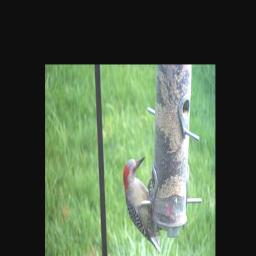Woodpecker: (124, 156, 162, 254)
